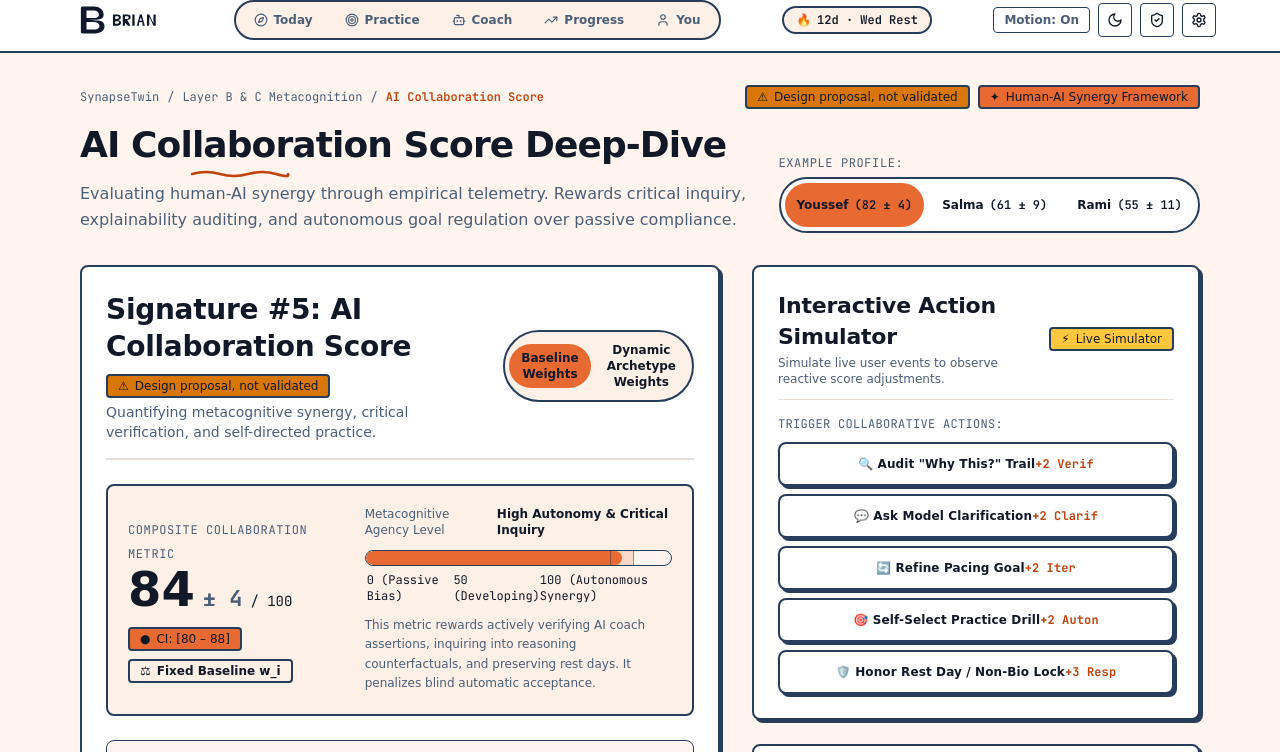
Test case: Wave 1 & Wave 2 Pages & Design System Unit Suite › renders Page 12 AI Collaboration Score (/collaboration) with Signature #5 CollaborationScoreCard, dynamic weights, action simulator, and longitudinal curve
expect the heading "AI Collaboration Score Deep-Dive" is shown: met, box [80,125,752,165]
expect the heading "Signature #5: AI Collaboration Score" is shown: met, box [106,293,411,363]
Click the button "Dynamic Archetype Weights" at (641, 366), box [595,336,688,396]
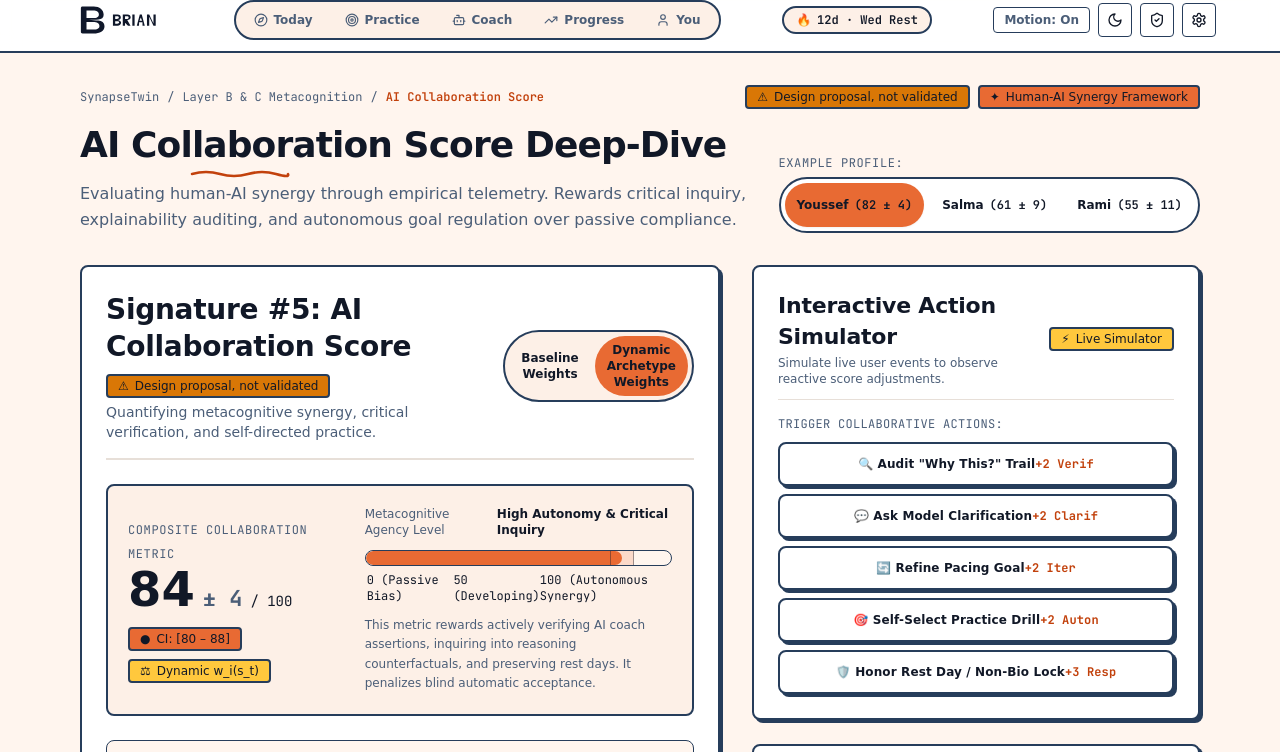
expect the button "Dynamic Archetype Weights" is pressed: met, box [595,336,688,396]
Click the button "🔍 Audit \"Why This?\" Trail+2 Verif" at (976, 464), box [778,442,1174,486]
(page scrolled)
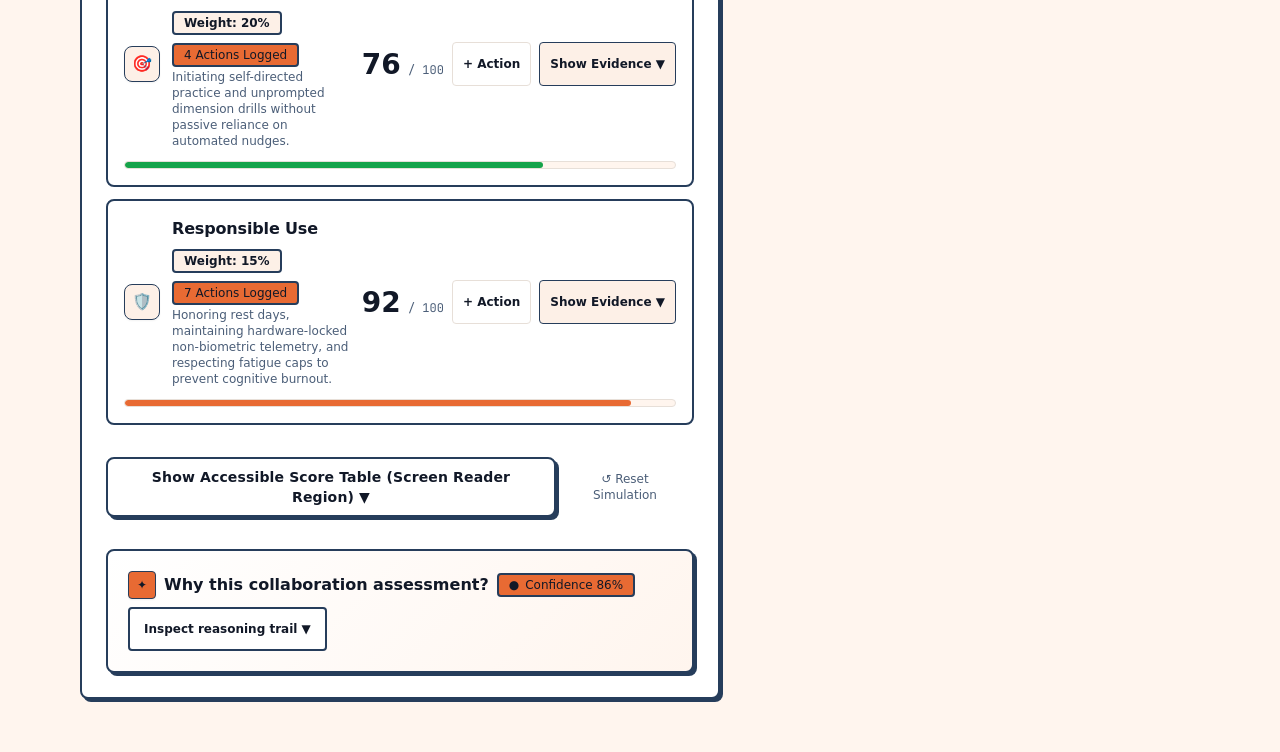
Note: Expand Accessible Score Table
Click the button "Show Accessible Score Table (Screen Reader Region) ▼" at (331, 488), box [106,458,556,518]
(page scrolled)
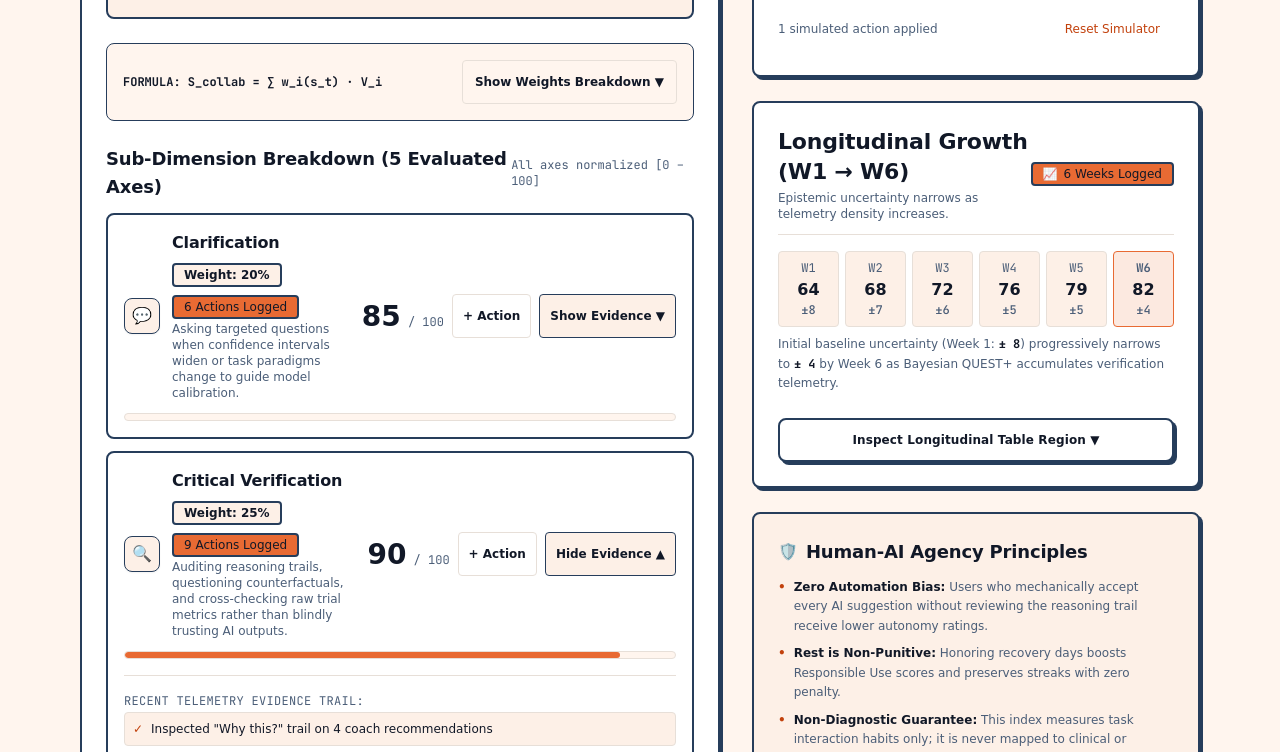
Note: Expand Longitudinal Curve Table
Click the button "Inspect Longitudinal Table Region ▼" at (976, 440), box [778,418,1174,462]
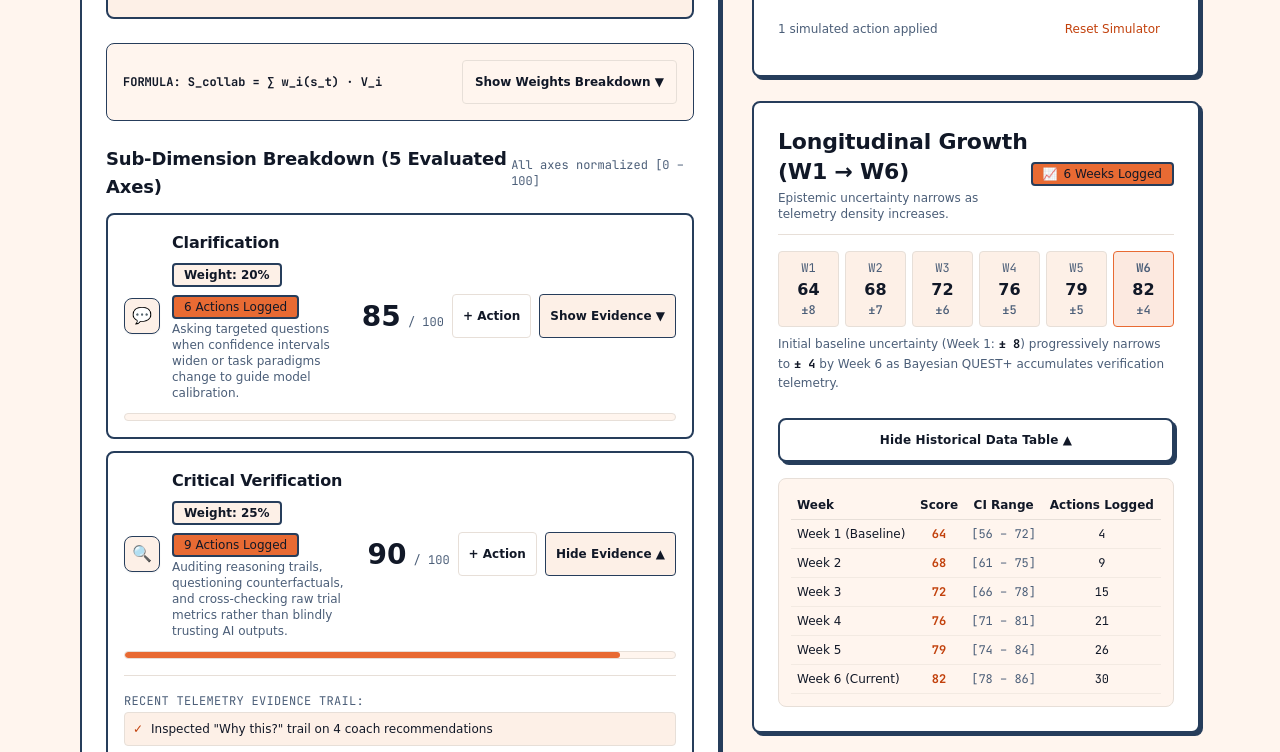
expect the table named "Longitudinal Collaboration Score History" is shown: met, box [791,491,1161,694]
